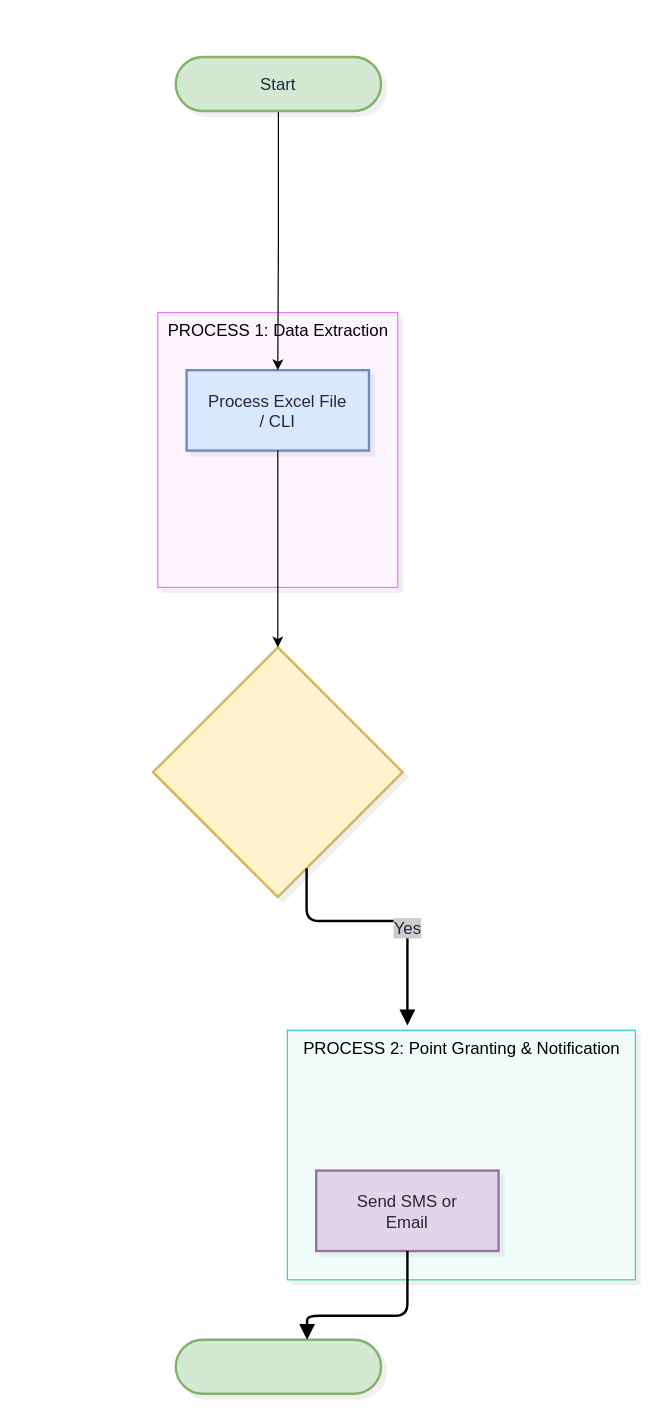
This 661x1420 diagram has some shape labels left out. The centre of each missing label's shape, as x and y in pixels:
"End" belongs at point 280,1368.
"Valid Data?" belongs at point 279,774.
